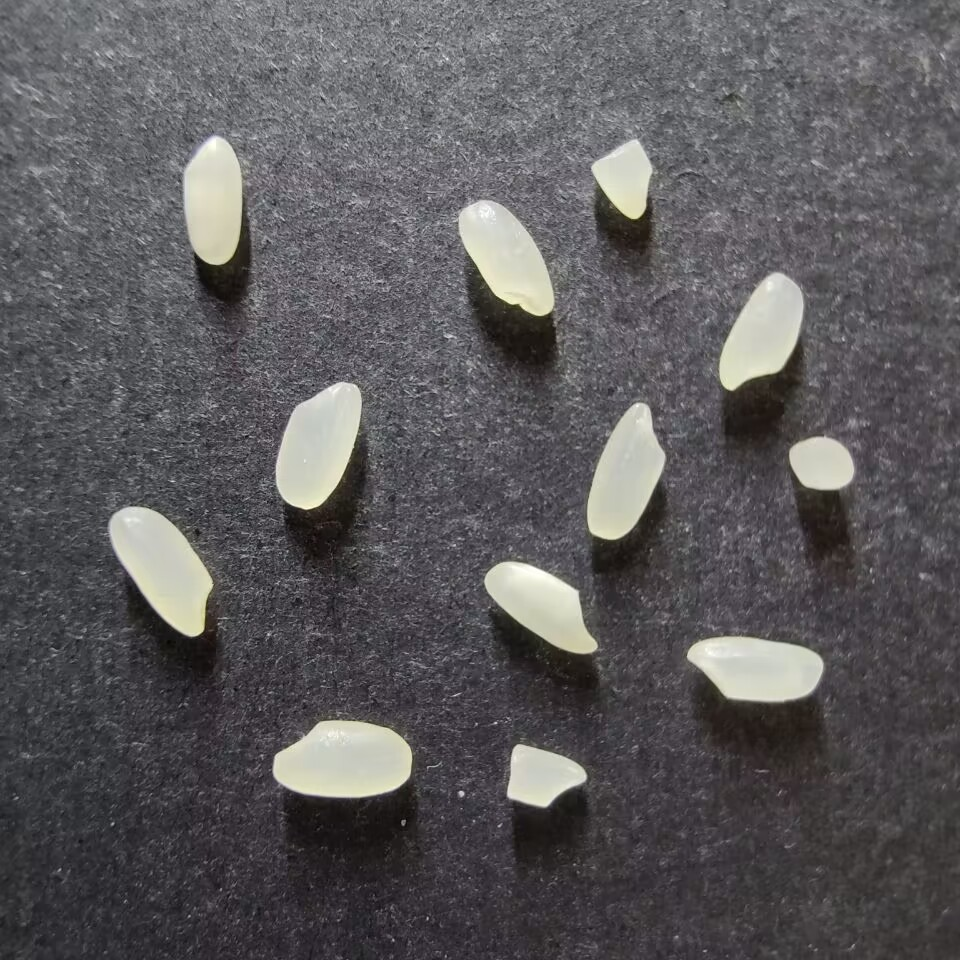broken: (506, 744, 587, 807), (590, 138, 652, 220), (788, 436, 854, 490)
rice: (108, 506, 212, 637), (457, 199, 554, 316), (275, 381, 362, 509), (272, 719, 412, 798), (586, 402, 666, 540), (483, 560, 598, 655), (718, 272, 804, 391), (686, 636, 823, 702), (182, 136, 242, 265)
